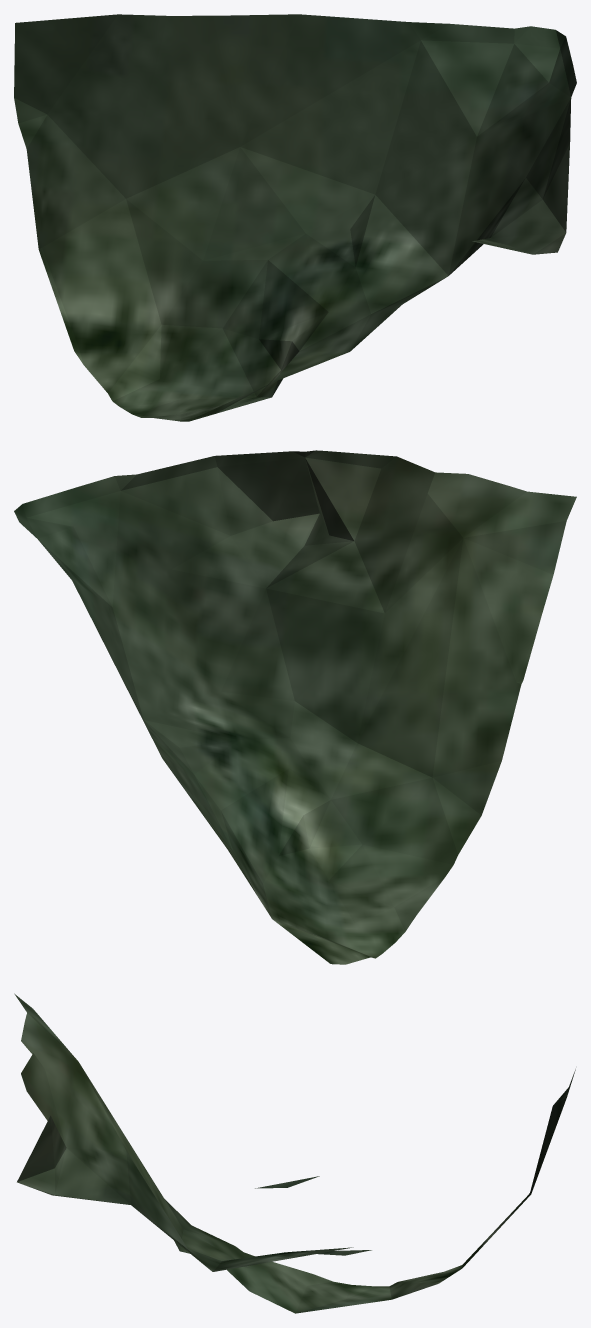
3 views of the same model, one above another, from view 1: azimuth 30°, elevation 25°; view 2: azimuth 150°, elevation 25°; view 3: azimuth 270°, elevation 25° (orthographic). The views are drawn at different scales.
Bounding box in the file's own units: 1 × 0.7378 × 1.28.
Materials: 1 (1 with a texture image).
